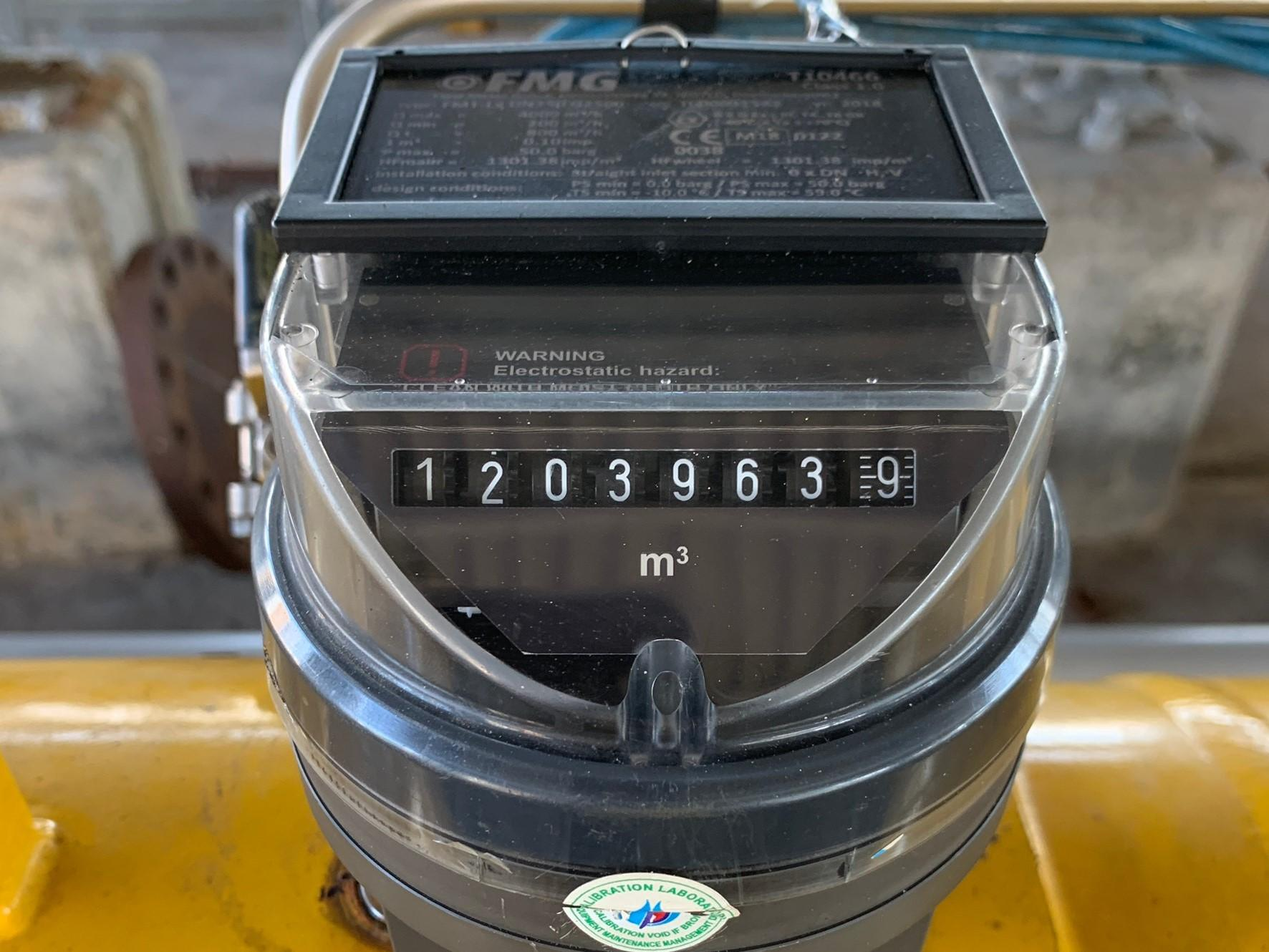analog_dial: (387, 443, 920, 512)
